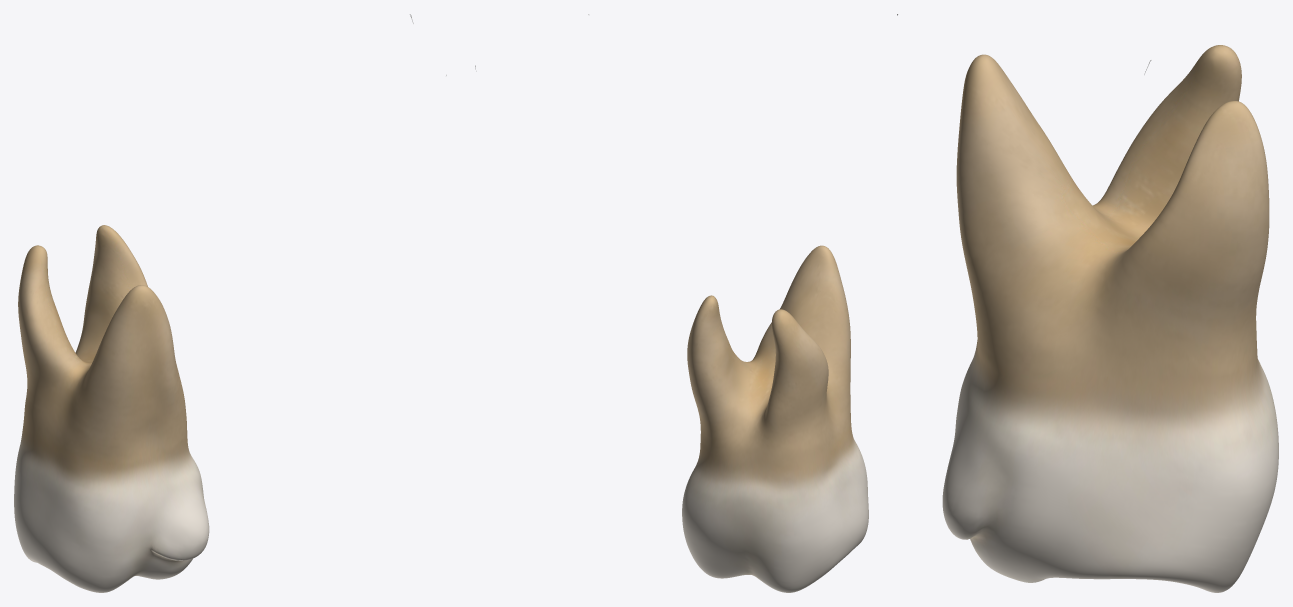
The model's file is maxillary_first_molar_right.glb.
3 views of the same model, side by side, from view 1: azimuth 30°, elevation 25°; view 2: azimuth 150°, elevation 25°; view 3: azimuth 270°, elevation 25° (orthographic). The views are drawn at different scales.
Visible parts, largest first — view 1: Object_8; view 2: Object_8; view 3: Object_8.
Part boxes in pixels (left/top/right/bottom): Object_8: left=14, top=225, right=209, bottom=592; Object_8: left=682, top=245, right=868, bottom=592; Object_8: left=942, top=45, right=1278, bottom=592.
Size of the model in its own units: 1.02 by 1.19 by 0.5358.
Materials: 2 (1 with a texture image).
